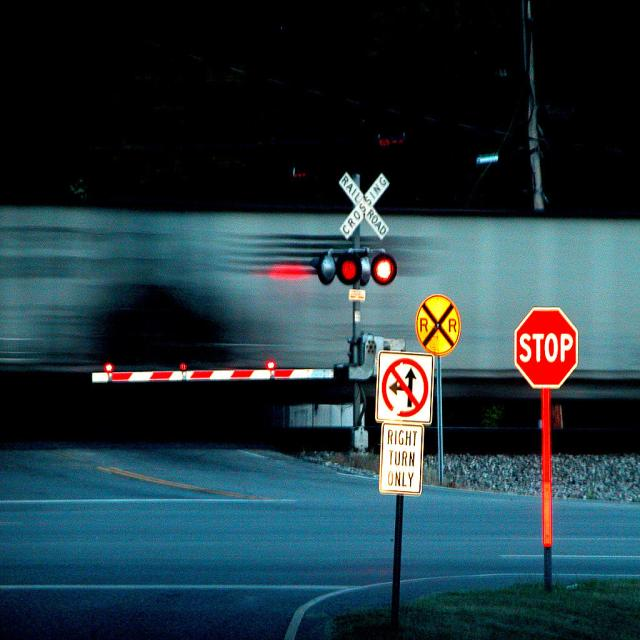Stop-sign: (513, 306, 578, 391)
